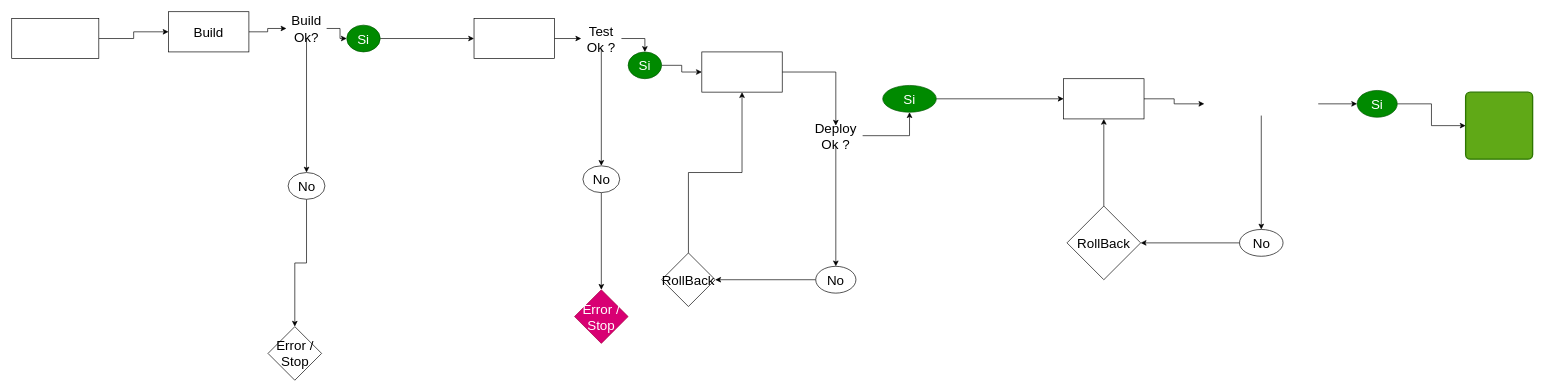
The diagram is 1545 pixels wide and 392 high, and some of its shapes have lost their labels. The centre of each missing label's shape, as x and y in pixels:
Commit: pixel 55 38
Deploy: pixel 741 71
Health Check: pixel 1103 98
Success: pixel 1499 125
Test: pixel 513 38
